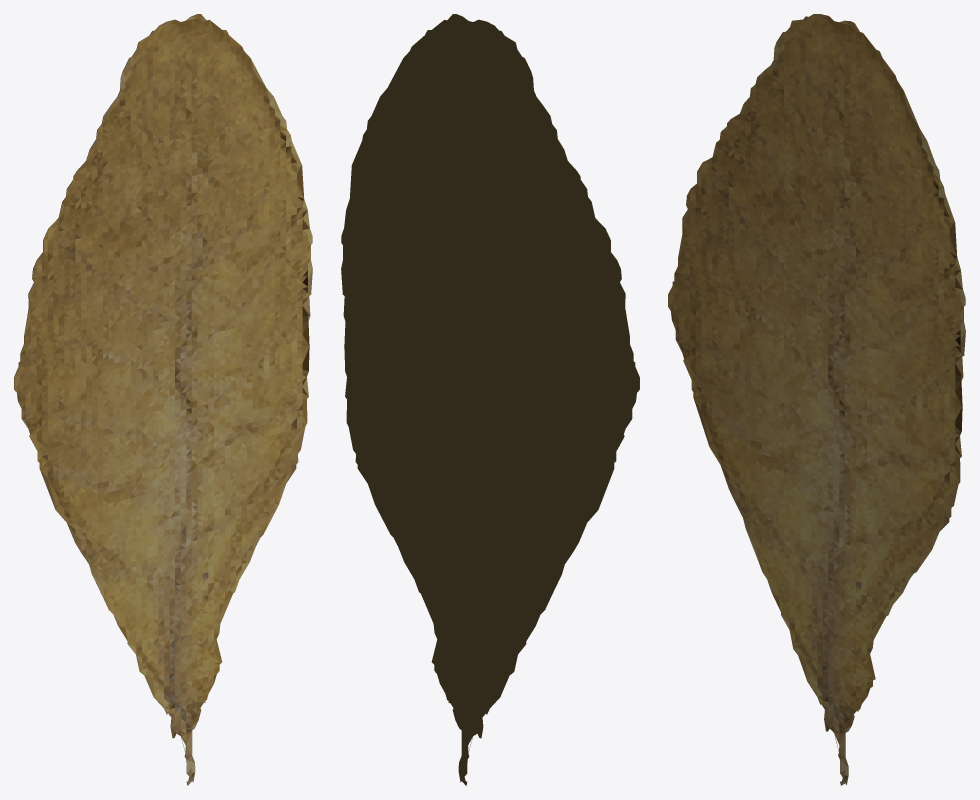
File: 20260817_193902094_iOS.obj
3 renders of one model, left to right at view 1: azimuth 30°, elevation 25°; view 2: azimuth 150°, elevation 25°; view 3: azimuth 330°, elevation 25°, orthographic.
Parts seen in each view (by area): view 1: 20260817_193902094_iOS; view 2: 20260817_193902094_iOS; view 3: 20260817_193902094_iOS.
Boxes of the visible parts, bbox=[...] form: 20260817_193902094_iOS: bbox=[14, 14, 312, 785]; 20260817_193902094_iOS: bbox=[341, 14, 639, 785]; 20260817_193902094_iOS: bbox=[668, 14, 965, 785].
Bounding box in the file's own units: 162 × 398 × 0.3.
